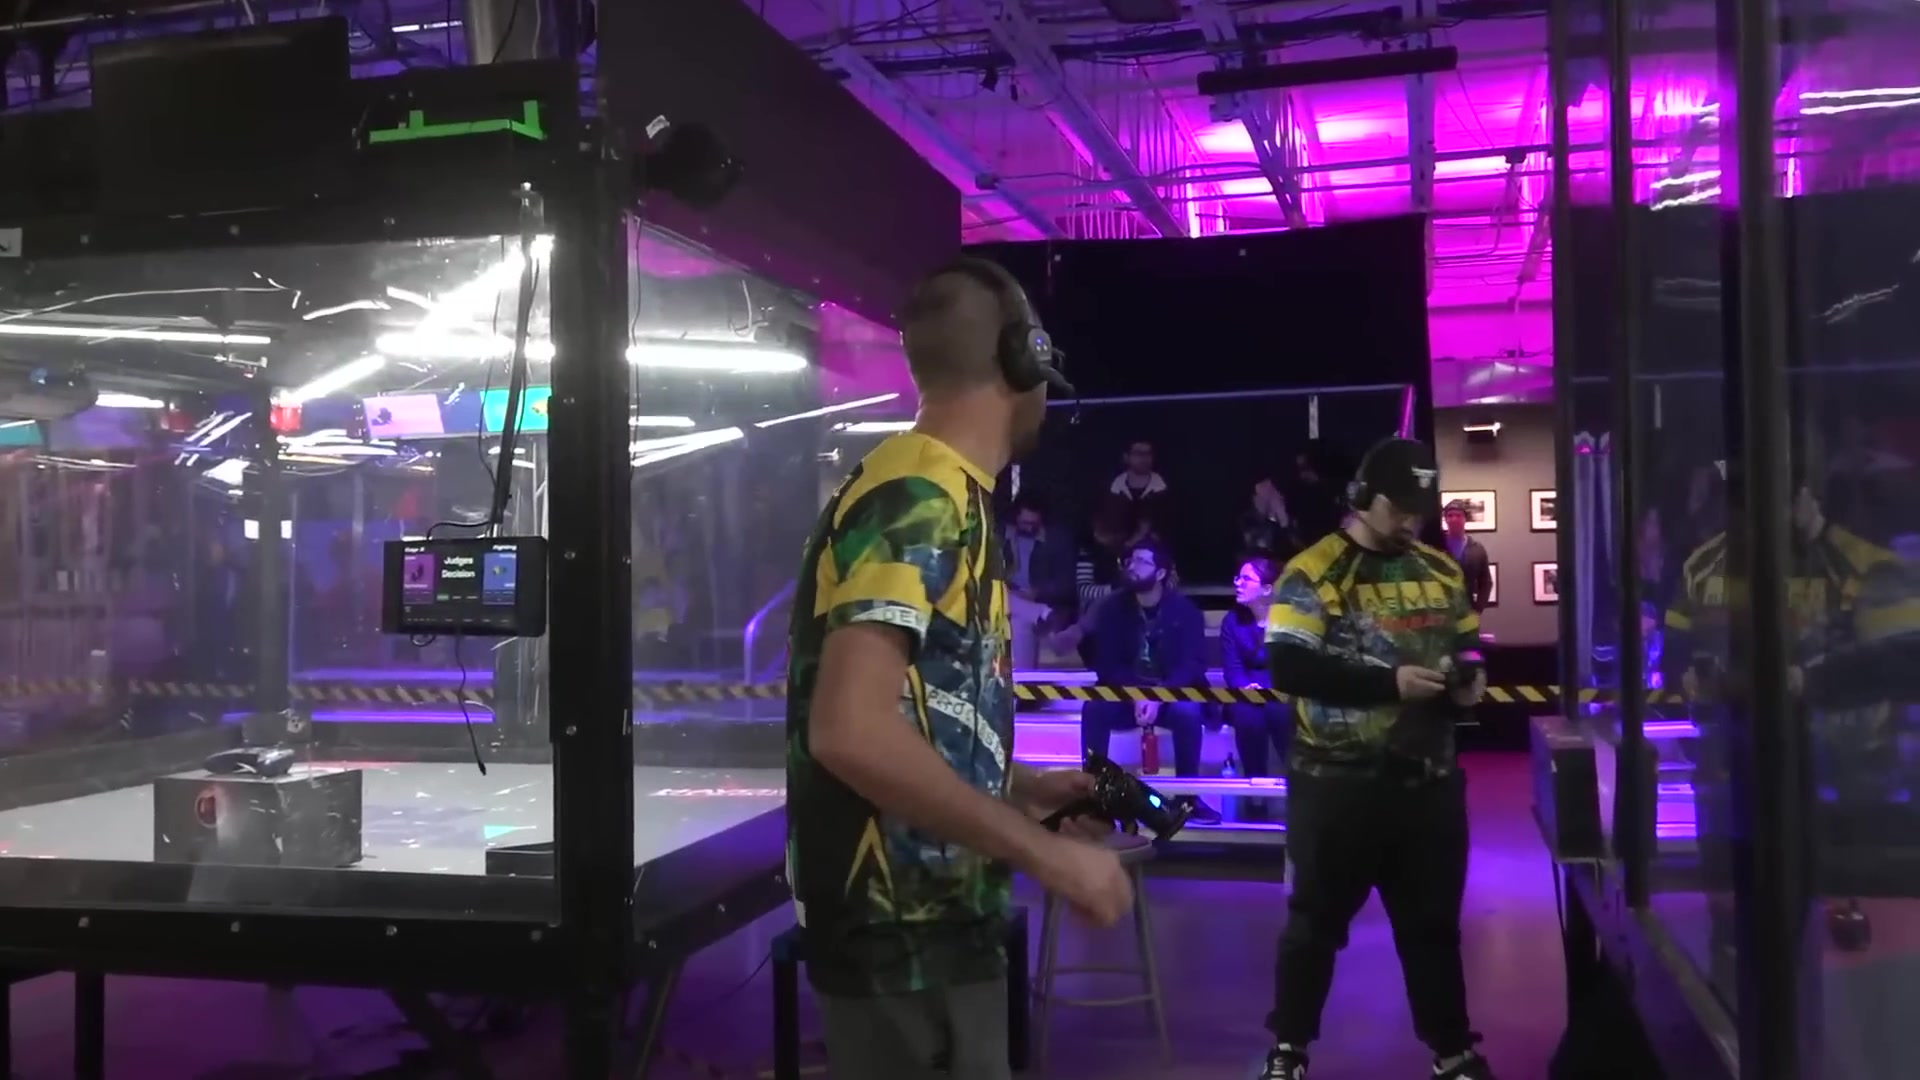housebot: (153, 769, 365, 868)
